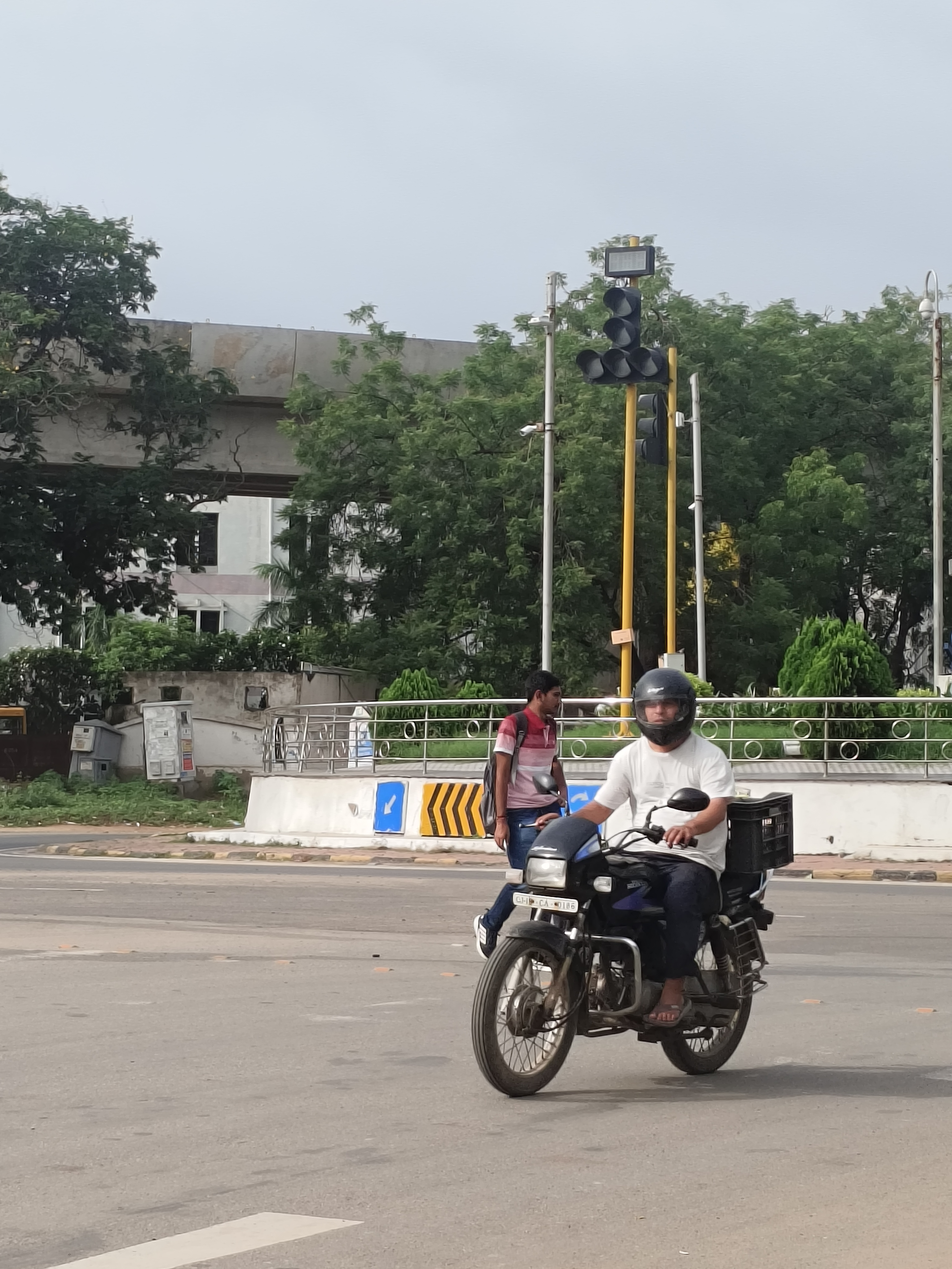BikeWithRider: (456, 661, 805, 1104)
Helmet: (624, 663, 709, 757)
